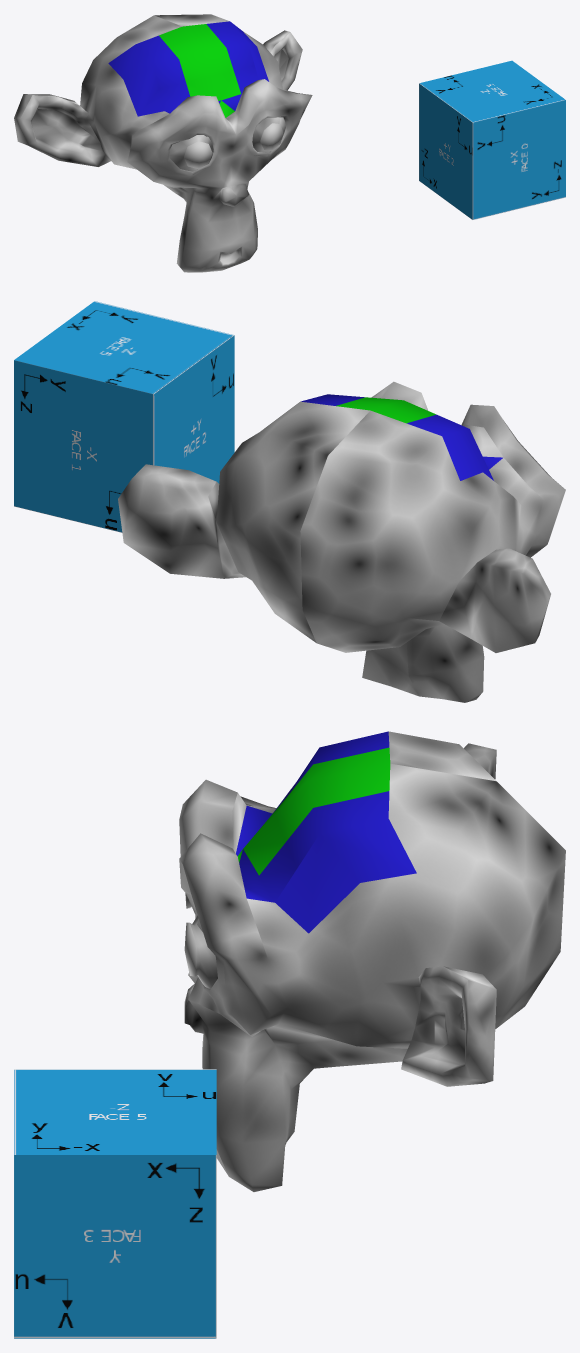
The model's file is monkey-cube.obj.
3 views of the same model, one above another, from view 1: azimuth 30°, elevation 25°; view 2: azimuth 150°, elevation 25°; view 3: azimuth 270°, elevation 25° (orthographic). The views are drawn at different scales.
Visible parts, largest first — view 1: Suzanne, Cube; view 2: Suzanne, Cube; view 3: Suzanne, Cube.
Part boxes in pixels (x1,y1,x2,y2): Suzanne: (14, 14, 312, 272); Cube: (419, 60, 565, 219); Suzanne: (118, 381, 565, 702); Cube: (14, 301, 234, 532); Suzanne: (179, 731, 565, 1191); Cube: (14, 1069, 216, 1338).
Size of the model in its own units: 4.08 by 1.97 by 2.43.
5 materials, 2 textured.
